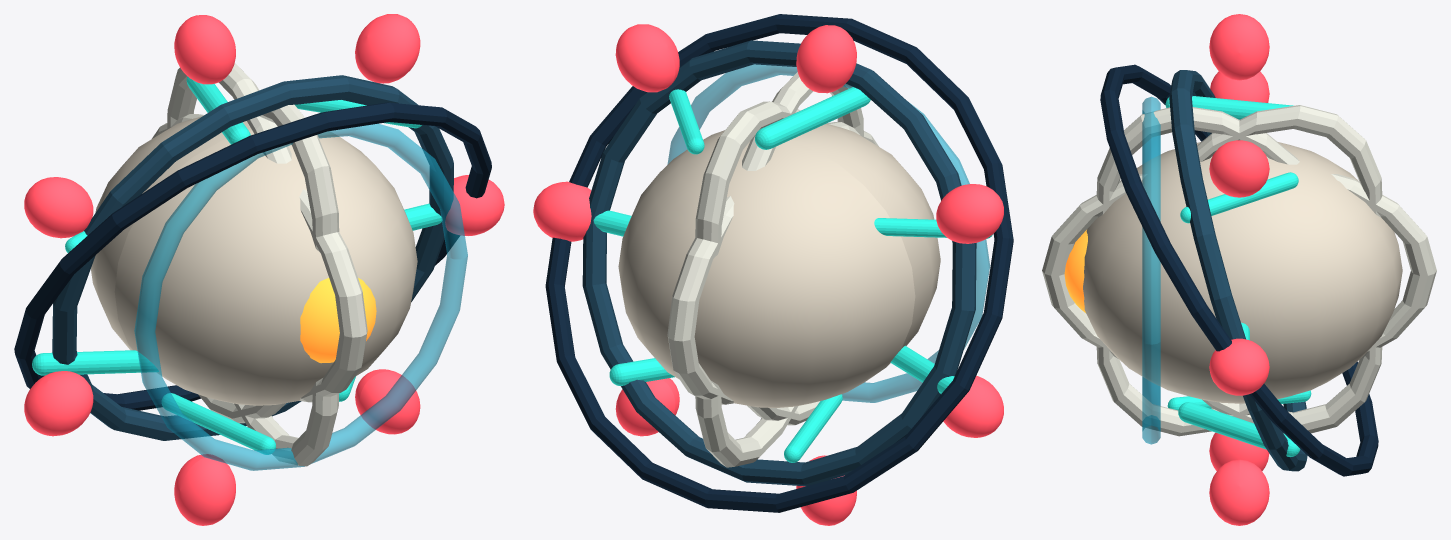
Rendered from bio-heart-medium.glb.
3 renders of one model, left to right at view 1: azimuth 30°, elevation 25°; view 2: azimuth 150°, elevation 25°; view 3: azimuth 270°, elevation 25°, orthographic. The views are drawn at different scales.
Parts seen in each view (by area): view 1: motion-heart, shield, accent_static, porcelain_static, dark_static, trim_static, telegraph_socket_1, telegraph_socket_4, telegraph_socket_5, telegraph_socket_2, telegraph_socket_3, telegraph_socket_6 (+2 smaller); view 2: motion-heart, dark_static, accent_static, porcelain_static, trim_static, shield, telegraph_socket_1, telegraph_socket_2, telegraph_socket_3, telegraph_socket_0, telegraph_socket_4, telegraph_socket_6 (+1 smaller); view 3: motion-heart, porcelain_static, dark_static, accent_static, shield, trim_static, telegraph_socket_2, telegraph_socket_6, telegraph_socket_1, telegraph_socket_0, telegraph_socket_5, telegraph_socket_3 (+1 smaller).
Part boxes in pixels (x1,y1,x2,y2): motion-heart: (91, 116, 417, 405); shield: (134, 123, 467, 470); accent_static: (52, 75, 453, 440); porcelain_static: (152, 63, 367, 466); dark_static: (14, 102, 491, 410); trim_static: (32, 76, 442, 454); telegraph_socket_1: (355, 14, 420, 83); telegraph_socket_4: (24, 371, 93, 436); telegraph_socket_5: (174, 454, 235, 525); telegraph_socket_2: (174, 15, 235, 84); telegraph_socket_3: (24, 177, 93, 238); telegraph_socket_6: (355, 369, 420, 434); motion-heart: (618, 123, 940, 407); dark_static: (545, 14, 1013, 512); accent_static: (582, 40, 976, 486); porcelain_static: (667, 72, 878, 467); trim_static: (593, 87, 992, 462); shield: (667, 64, 989, 402); telegraph_socket_1: (615, 24, 679, 92); telegraph_socket_2: (796, 25, 856, 93); telegraph_socket_3: (936, 184, 1003, 243); telegraph_socket_0: (533, 181, 591, 241); telegraph_socket_4: (943, 376, 1003, 437); telegraph_socket_6: (615, 378, 679, 436); motion-heart: (1083, 142, 1402, 403); porcelain_static: (1042, 105, 1436, 436); dark_static: (1100, 64, 1378, 476); accent_static: (1169, 70, 1307, 471); shield: (1142, 96, 1160, 444); trim_static: (1165, 96, 1311, 456); telegraph_socket_2: (1209, 14, 1269, 80); telegraph_socket_6: (1209, 459, 1269, 525); telegraph_socket_1: (1209, 140, 1269, 197); telegraph_socket_0: (1209, 338, 1269, 395); telegraph_socket_5: (1209, 432, 1269, 470); telegraph_socket_3: (1210, 71, 1269, 102).
Size of the model in its own units: 2394 by 2442 by 1884.
